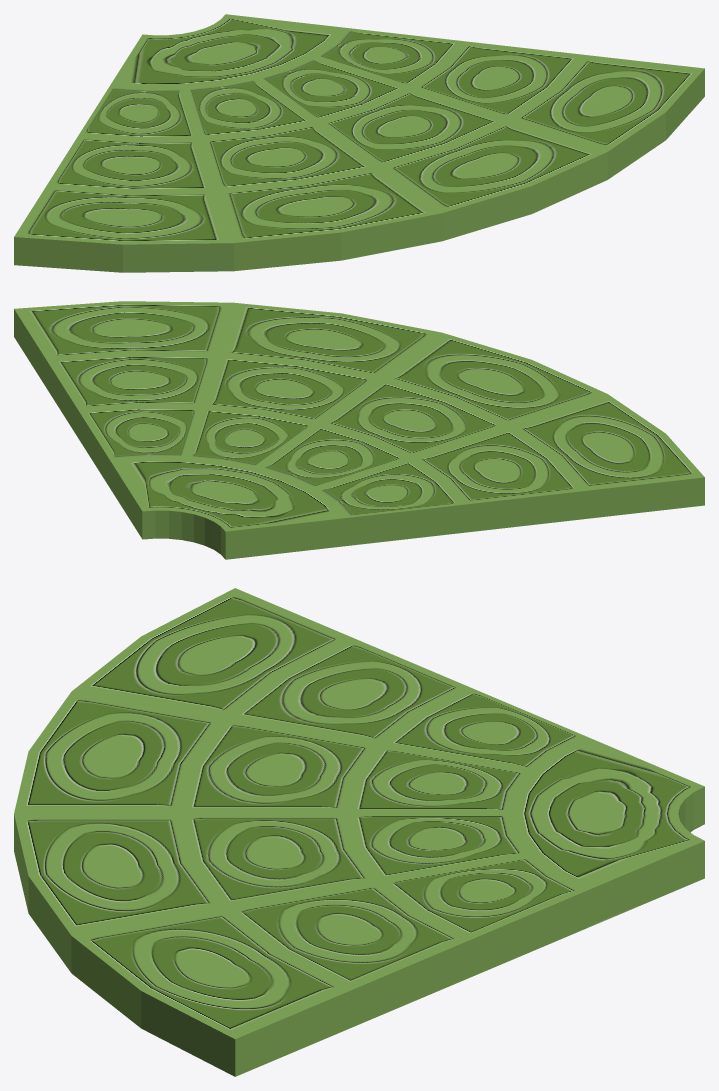
Rendered from 90Turn.fbx.
The picture shows the model from 3 angles, top to bottom: view 1: azimuth 30°, elevation 25°; view 2: azimuth 150°, elevation 25°; view 3: azimuth 270°, elevation 25°; orthographic projection. The views are drawn at different scales.
Parts seen in each view (by area): view 1: 4x4; view 2: 4x4; view 3: 4x4.
Part boxes in pixels (x1=…): 4x4: x1=14, y1=14, x2=704, y2=272; 4x4: x1=14, y1=301, x2=704, y2=559; 4x4: x1=14, y1=588, x2=704, y2=1076.
Size of the model in its own units: 643 by 25 by 416.
